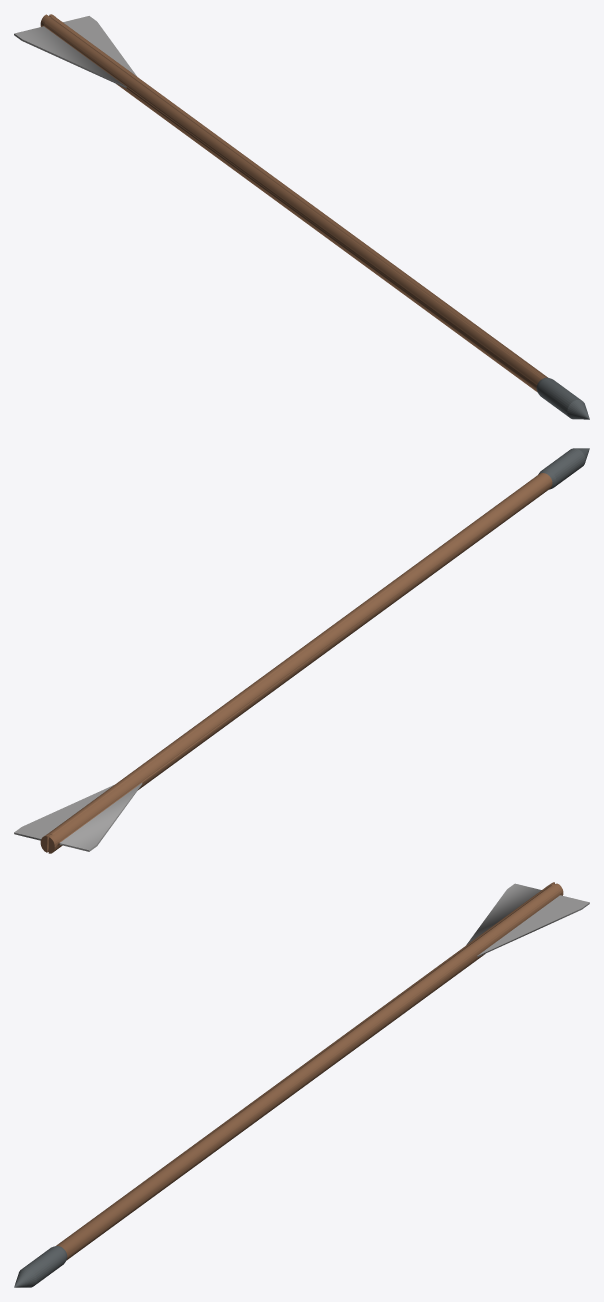
File: arrow.fbx
3 renders of one model, top to bottom at view 1: azimuth 30°, elevation 25°; view 2: azimuth 150°, elevation 25°; view 3: azimuth 330°, elevation 25°, orthographic.
Parts seen in each view (by area): view 1: arrow; view 2: arrow; view 3: arrow.
Boxes of the visible parts, x1,y1,x2,y2 form: arrow: [14, 14, 589, 419]; arrow: [14, 448, 589, 853]; arrow: [14, 882, 589, 1287].
Size of the model in its own units: 5.71 by 1.38 by 71.13.
Materials: 1 (1 with a texture image).
